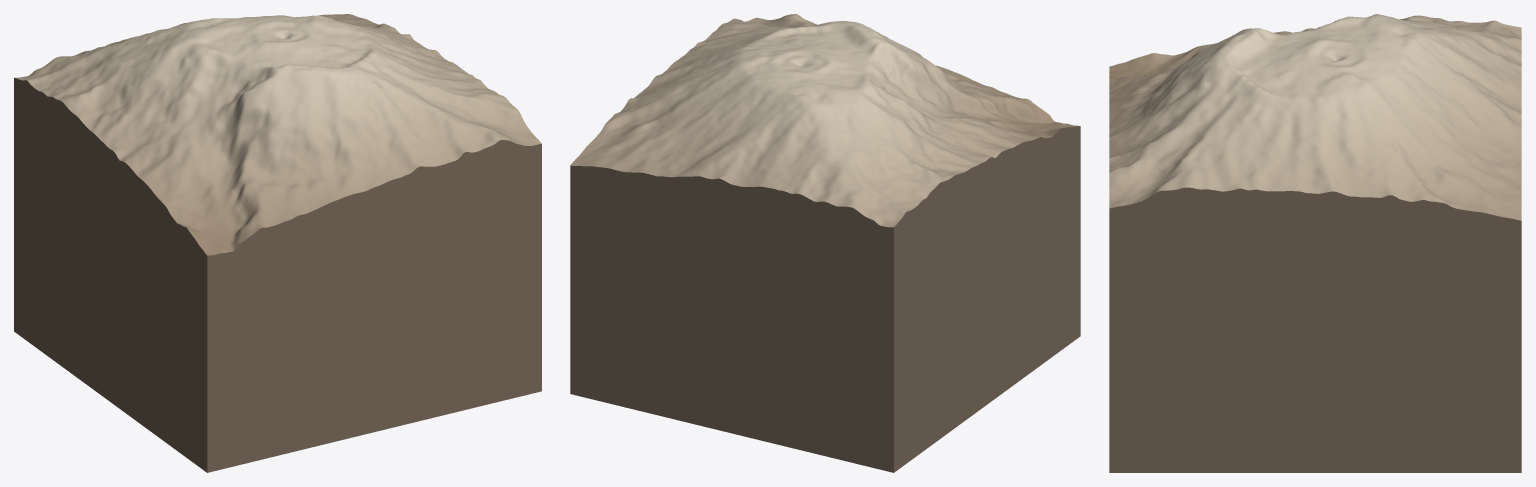
File: earth3d2-kilimanjaro.glb
3 renders of one model, left to right at view 1: azimuth 30°, elevation 25°; view 2: azimuth 150°, elevation 25°; view 3: azimuth 270°, elevation 25°, orthographic. The views are drawn at different scales.
Visible parts, largest first — view 1: Summit window sides extended to sea-level display datum, Measured Kibo summit terrain, equal metric axes; view 2: Summit window sides extended to sea-level display datum, Measured Kibo summit terrain, equal metric axes; view 3: Summit window sides extended to sea-level display datum, Measured Kibo summit terrain, equal metric axes.
Boxes of the visible parts, x1,y1,x2,y2 form: Summit window sides extended to sea-level display datum: [14, 78, 541, 472]; Measured Kibo summit terrain, equal metric axes: [14, 14, 541, 255]; Summit window sides extended to sea-level display datum: [570, 126, 1080, 472]; Measured Kibo summit terrain, equal metric axes: [570, 14, 1079, 227]; Summit window sides extended to sea-level display datum: [1109, 187, 1521, 472]; Measured Kibo summit terrain, equal metric axes: [1109, 14, 1521, 220].
Bounding box in the file's own units: 6400 × 5886 × 6400.
